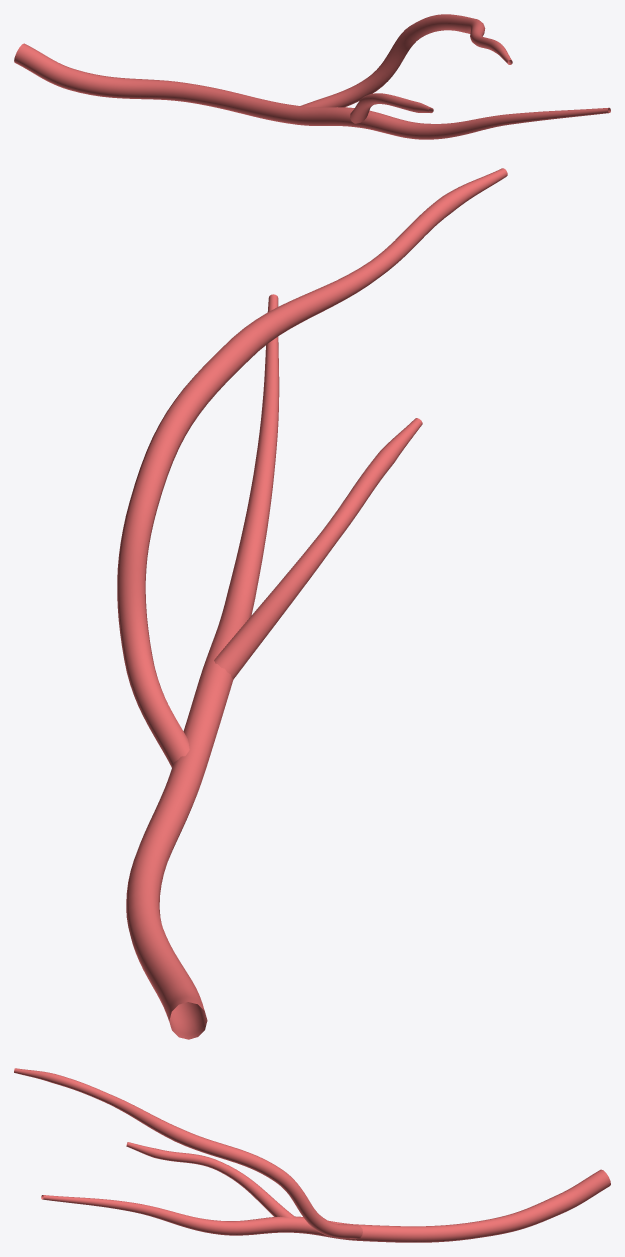
The model's file is Long_posterior_ciliary_arteries.l_BezierCurve.352.glb.
3 views of the same model, one above another, from view 1: azimuth 30°, elevation 25°; view 2: azimuth 150°, elevation 25°; view 3: azimuth 270°, elevation 25° (orthographic). The views are drawn at different scales.
Parts seen in each view (by area): view 1: Long_posterior_ciliary_arteries.l_BezierCurve.352; view 2: Long_posterior_ciliary_arteries.l_BezierCurve.352; view 3: Long_posterior_ciliary_arteries.l_BezierCurve.352.
Part boxes in pixels (<box>): Long_posterior_ciliary_arteries.l_BezierCurve.352: <box>14,14,610,139</box>; Long_posterior_ciliary_arteries.l_BezierCurve.352: <box>117,168,507,1039</box>; Long_posterior_ciliary_arteries.l_BezierCurve.352: <box>14,1068,610,1242</box>.
Size of the model in its own units: 0.012 by 0.00924 by 0.025.
